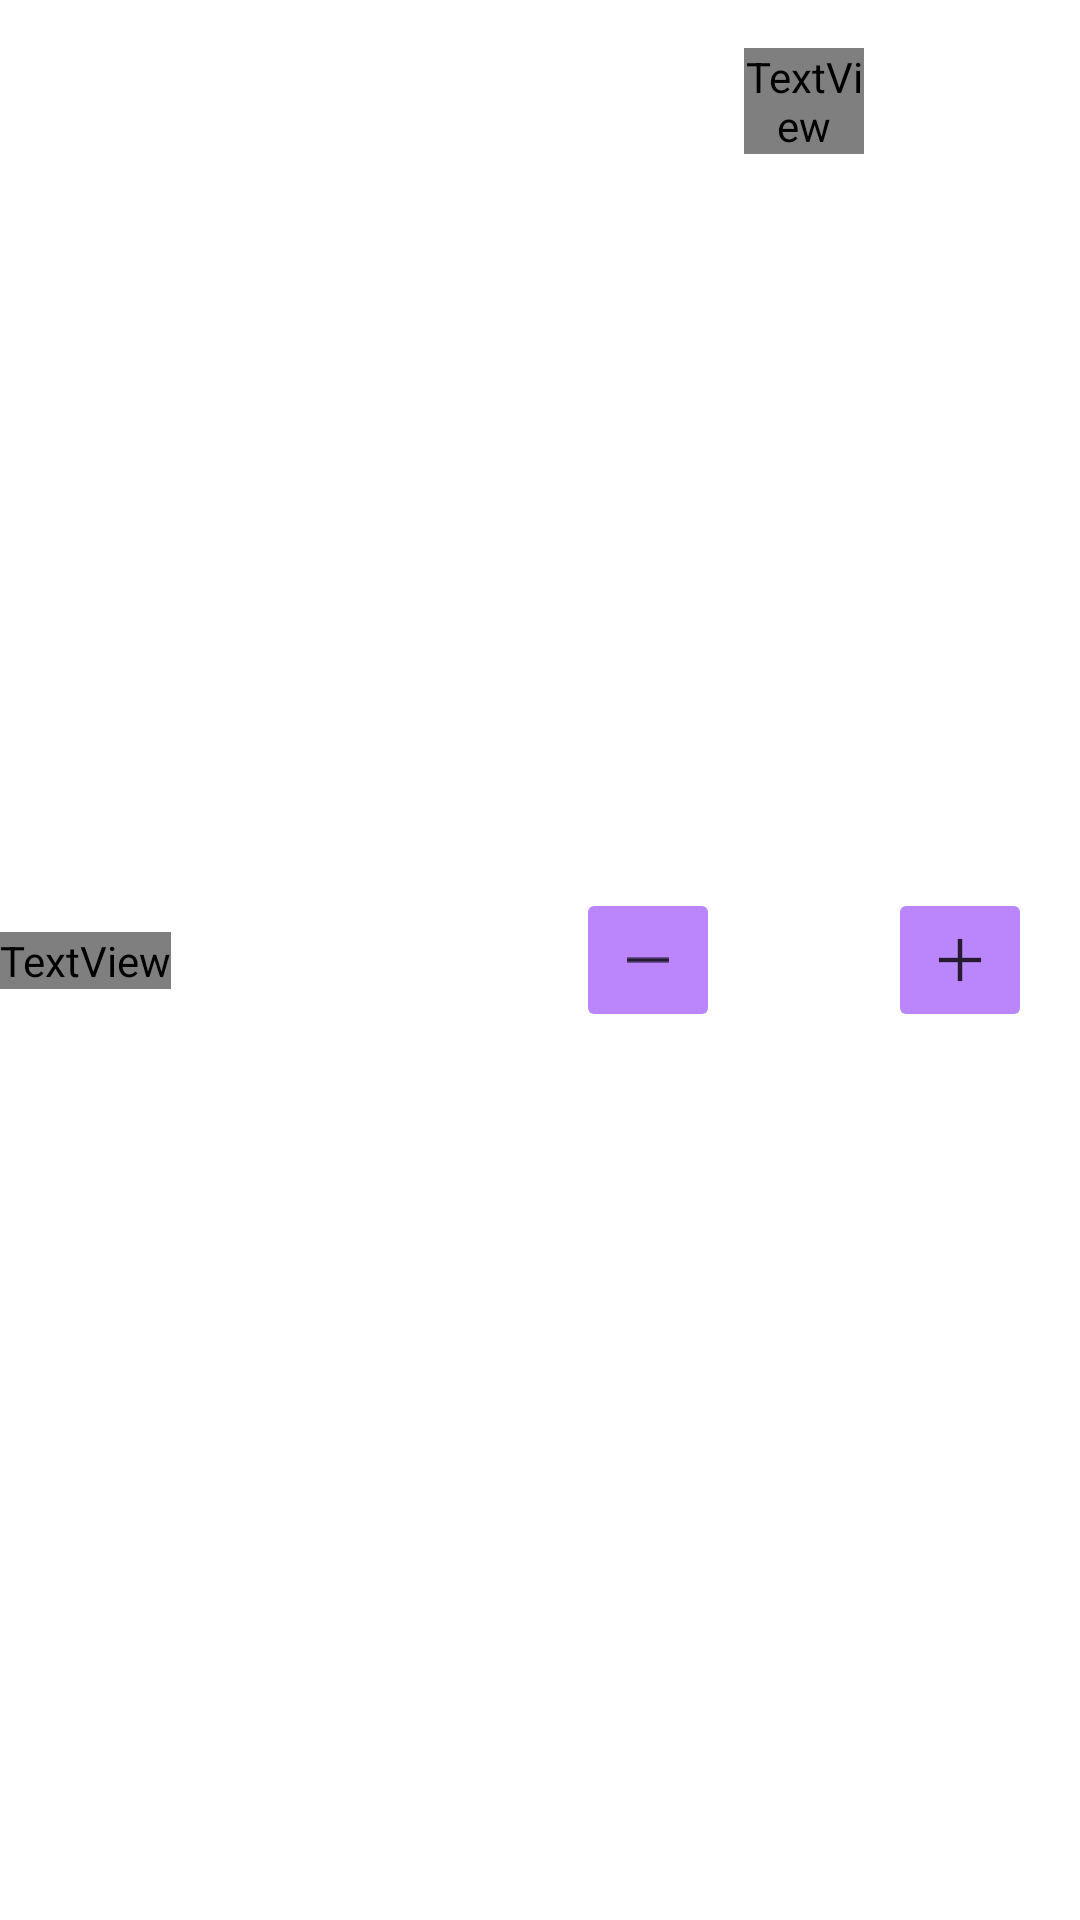

Where to tap for icons on this 1080px x 1920px app screen, as point (x, y):
add: point (960, 960)
minus: point (648, 960)
